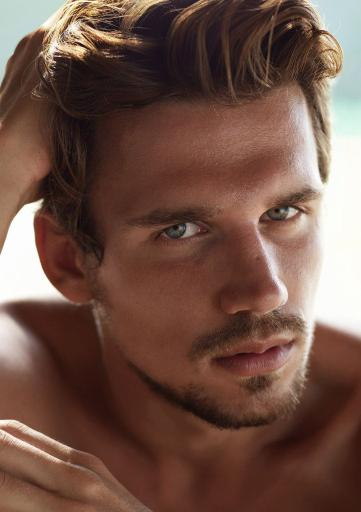left_eye: (260, 202, 311, 226)
left_lip_corner: (281, 330, 302, 354)
right_eye: (153, 219, 215, 245)
right_lip_corner: (207, 349, 232, 372)
